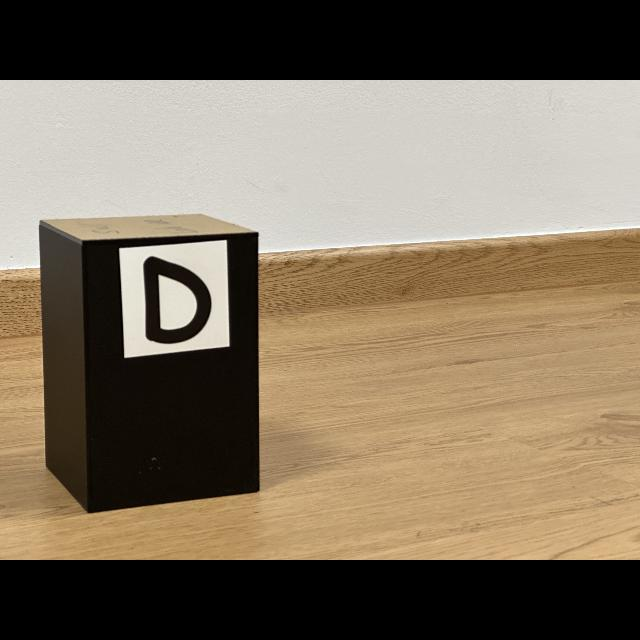D: (144, 256, 211, 344)
